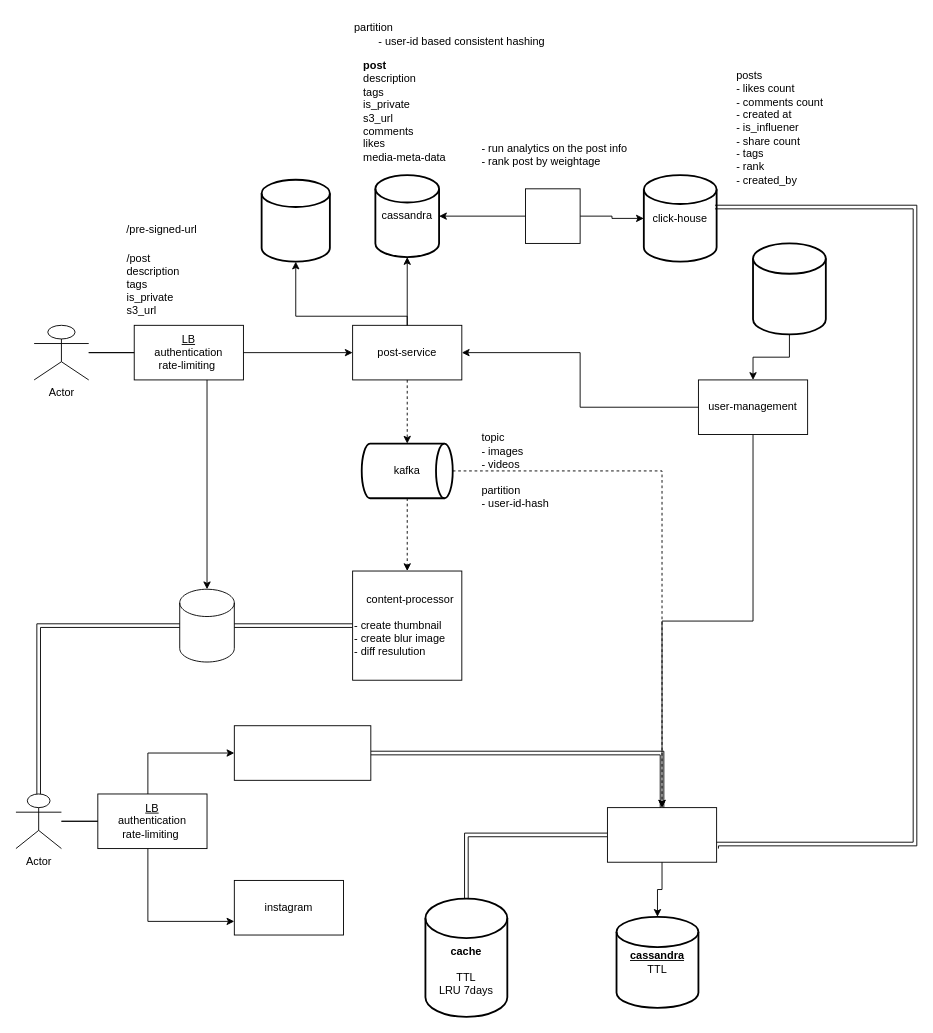
The diagram is 933 pixels wide and 1033 high, and some of its shapes have lost their labels. The shapes that lost their labels are listed below. From the top down, each one's centre as x and y in pixels, then its label:
(x=295, y=220): write-through LRU
(x=552, y=215): cron
(x=789, y=288): cache - read-through - LRU - user-id
(x=206, y=625): s3
(x=302, y=752): web-socket service
(x=662, y=834): insta-feed service
